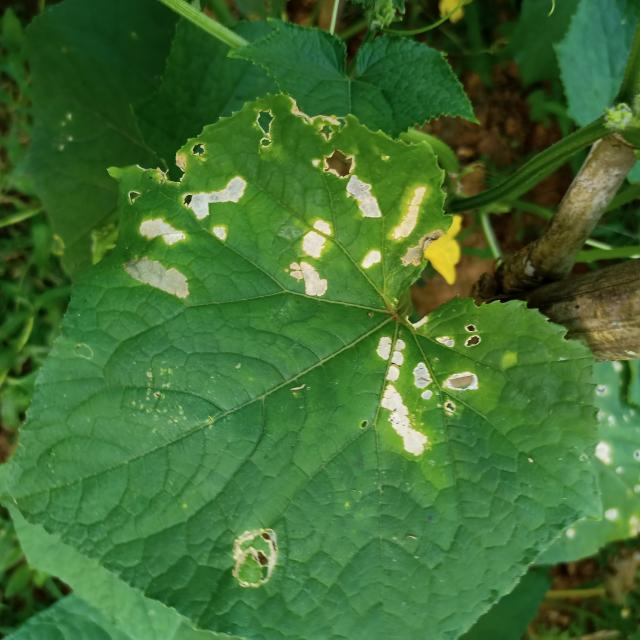disease_cucumber: (365, 308, 484, 461), (338, 150, 444, 290), (111, 215, 189, 304), (276, 213, 336, 301), (188, 173, 255, 243)
